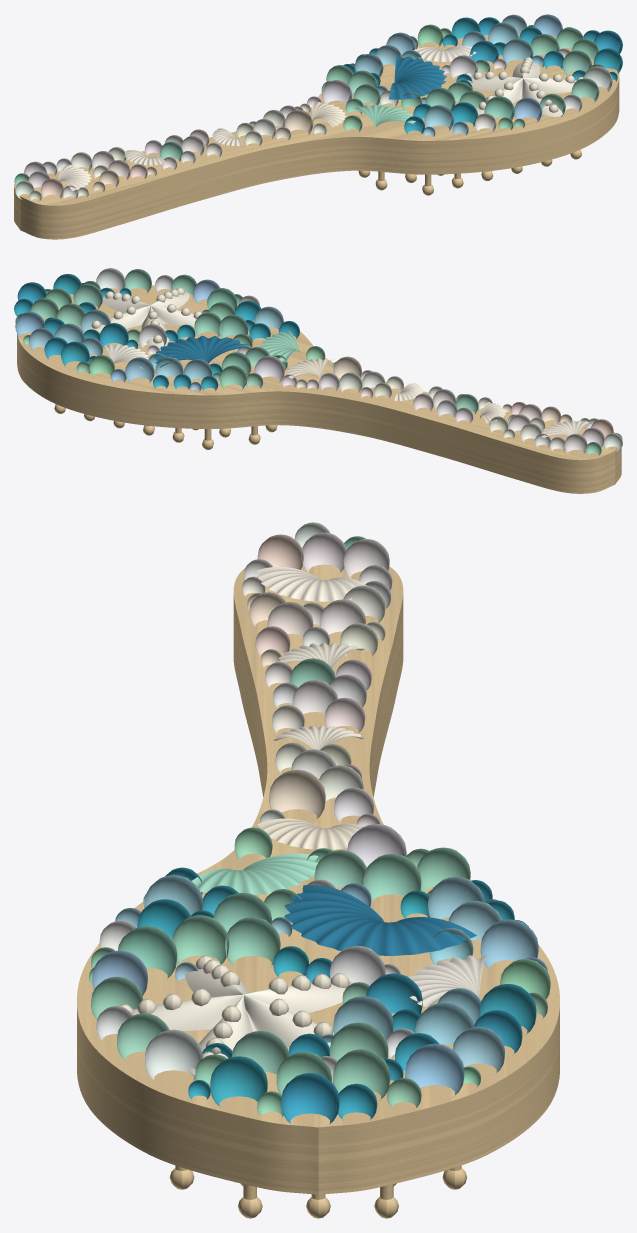
Rendered from sikat.glb.
3 views of the same model, one above another, from view 1: azimuth 30°, elevation 25°; view 2: azimuth 150°, elevation 25°; view 3: azimuth 270°, elevation 25° (orthographic). The views are drawn at different scales.
Visible parts, largest first — view 1: Sikat_Kerang; view 2: Sikat_Kerang; view 3: Sikat_Kerang.
Boxes of the visible parts, box(x1,y1,x2,y2) form: Sikat_Kerang: box(14, 14, 622, 239); Sikat_Kerang: box(14, 268, 622, 493); Sikat_Kerang: box(77, 522, 559, 1218).
Size of the model in its own units: 0.2246 by 0.0316 by 0.0779.
Materials: 4 (1 with a texture image).
